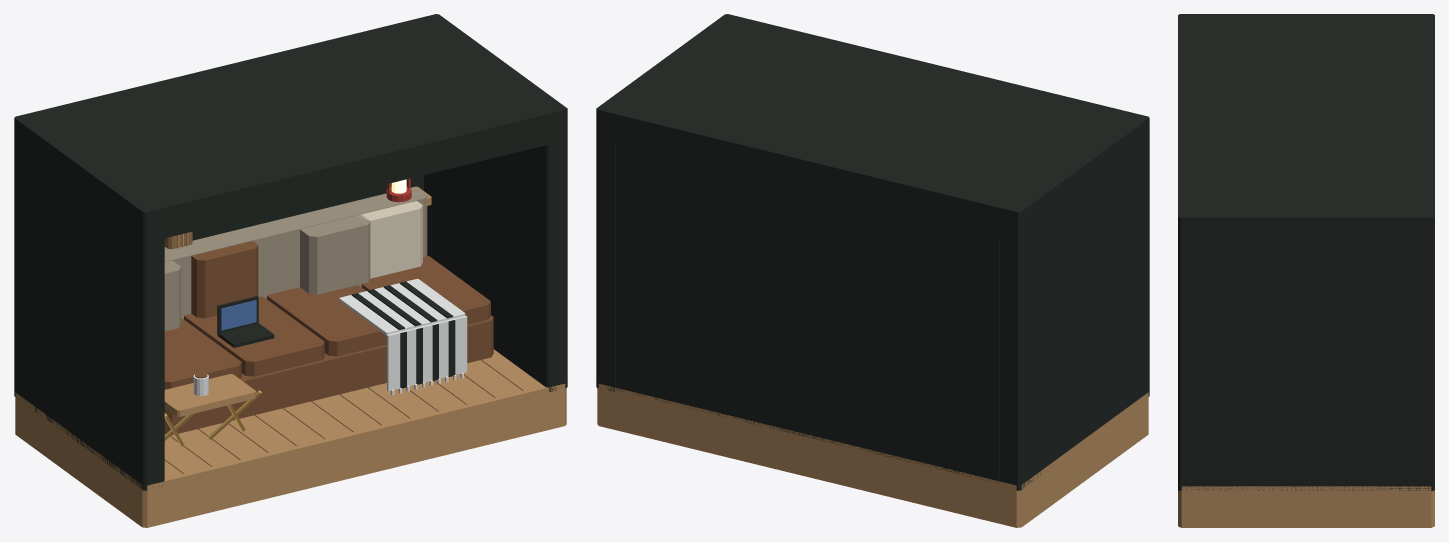
File: gh_recessed_lounge_v01.glb
3 views of the same model, side by side, from view 1: azimuth 30°, elevation 25°; view 2: azimuth 150°, elevation 25°; view 3: azimuth 270°, elevation 25° (orthographic).
Visible parts, largest first — view 1: Dark framed raised work nook palette, Couch cushions and work details fabric, Couch cushions and work details palette; view 2: Dark framed raised work nook palette; view 3: Dark framed raised work nook palette.
Part boxes in pixels (left/top/right/bottom): Dark framed raised work nook palette: left=14, top=14, right=567, bottom=527; Couch cushions and work details fabric: left=164, top=187, right=493, bottom=435; Couch cushions and work details palette: left=164, top=178, right=431, bottom=446; Dark framed raised work nook palette: left=596, top=14, right=1149, bottom=527; Dark framed raised work nook palette: left=1178, top=14, right=1434, bottom=527.
Bounding box in the file's own units: 4.5 × 3.2 × 2.4.
Materials: 3 (3 with a texture image).
